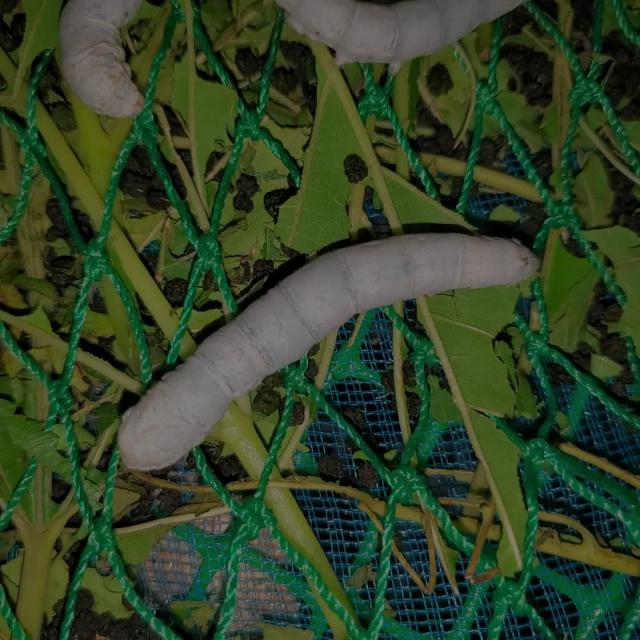Healthy: (86, 200, 590, 513)
